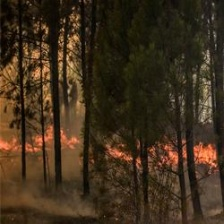fire: (106, 140, 218, 169), (1, 124, 80, 154)
